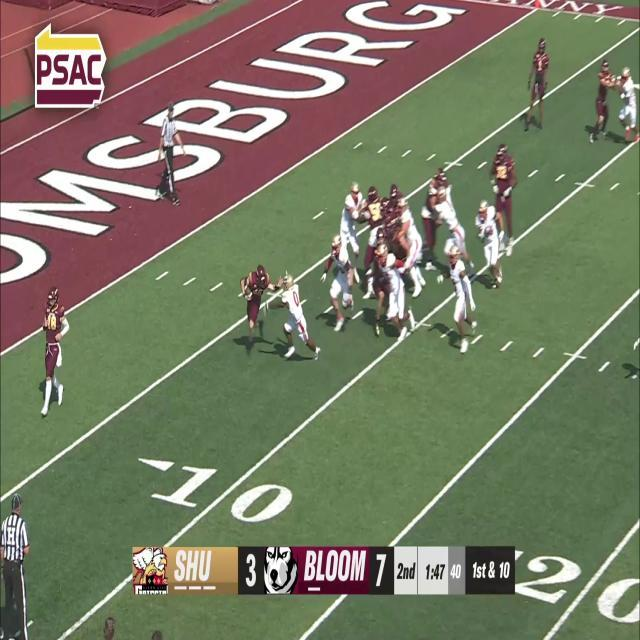football: (243, 285, 253, 299)
